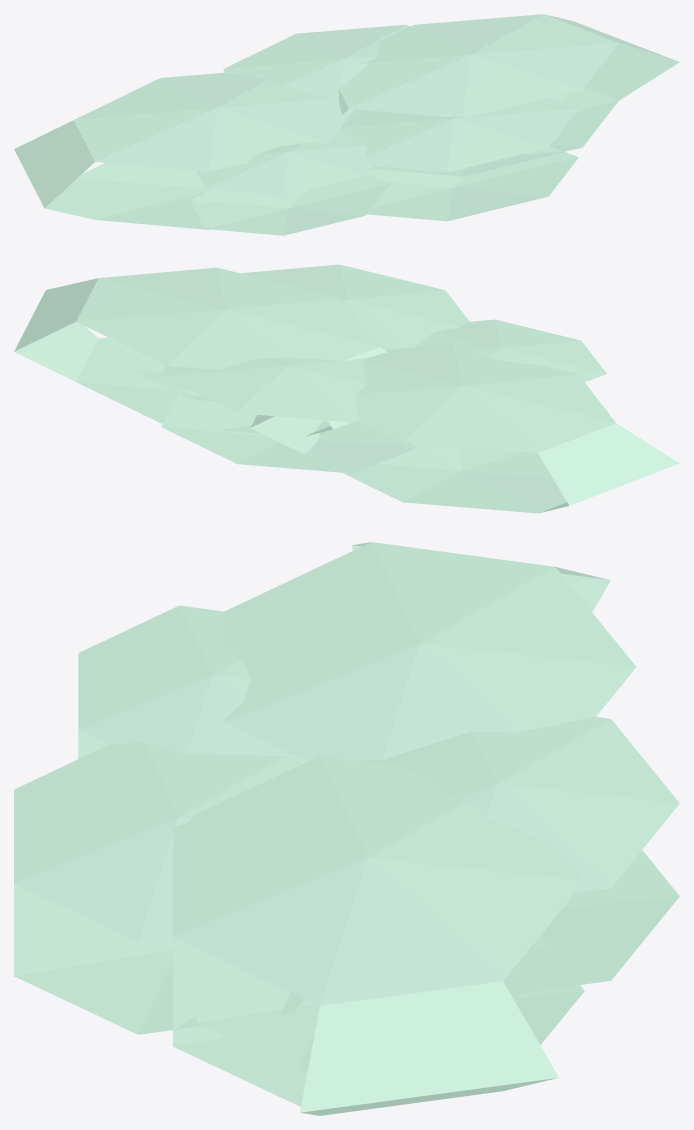
File: prop_mist_bank_lod1.glb
3 renders of one model, top to bottom at view 1: azimuth 30°, elevation 25°; view 2: azimuth 150°, elevation 25°; view 3: azimuth 270°, elevation 25°, orthographic. The views are drawn at different scales.
Visible parts, largest first — view 1: prop_mist_bank_lod1; view 2: prop_mist_bank_lod1; view 3: prop_mist_bank_lod1.
Boxes of the visible parts, box(x1,y1,x2,y2) form: prop_mist_bank_lod1: box(14, 14, 679, 235); prop_mist_bank_lod1: box(14, 264, 679, 513); prop_mist_bank_lod1: box(14, 542, 679, 1115).
Bounding box in the file's own units: 7.12 × 0.946 × 3.48.
